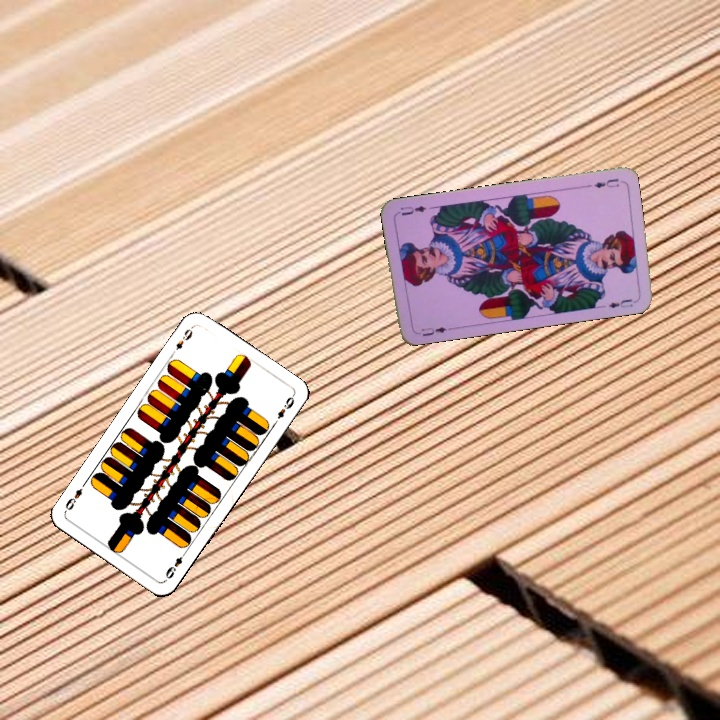E9: (167, 323, 196, 358), (161, 547, 189, 581)
EU: (412, 323, 449, 339), (590, 174, 621, 191)
